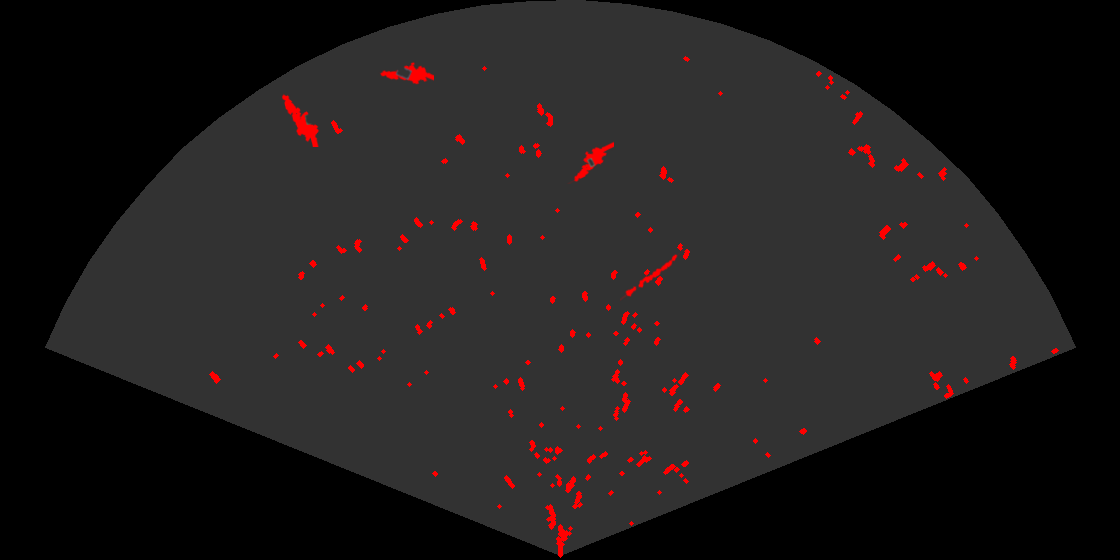chain: (620, 250, 686, 302)
frogman: (280, 92, 321, 147), (566, 140, 614, 184), (378, 60, 434, 86)
